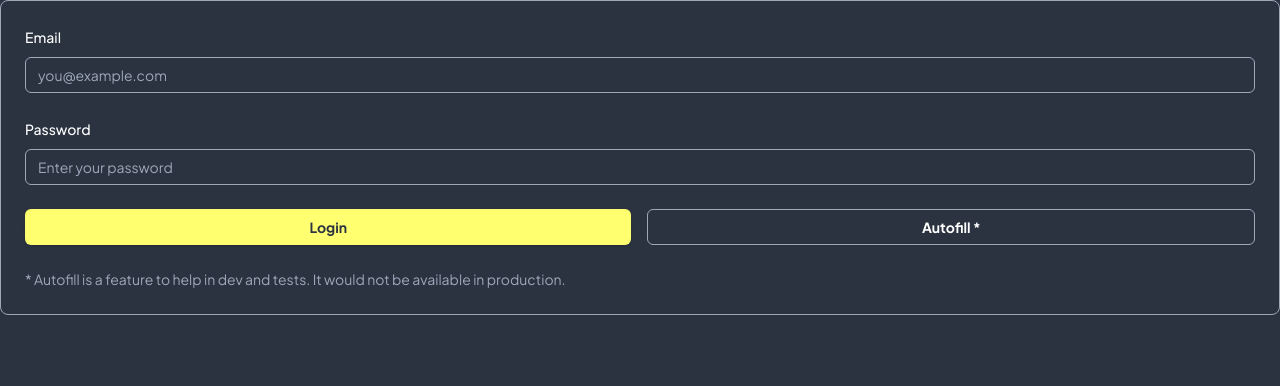
Test: LoginForm › displays validation errors for empty fields on submit
Click the button "Login" at x=328, y=227, box [25, 209, 632, 245]
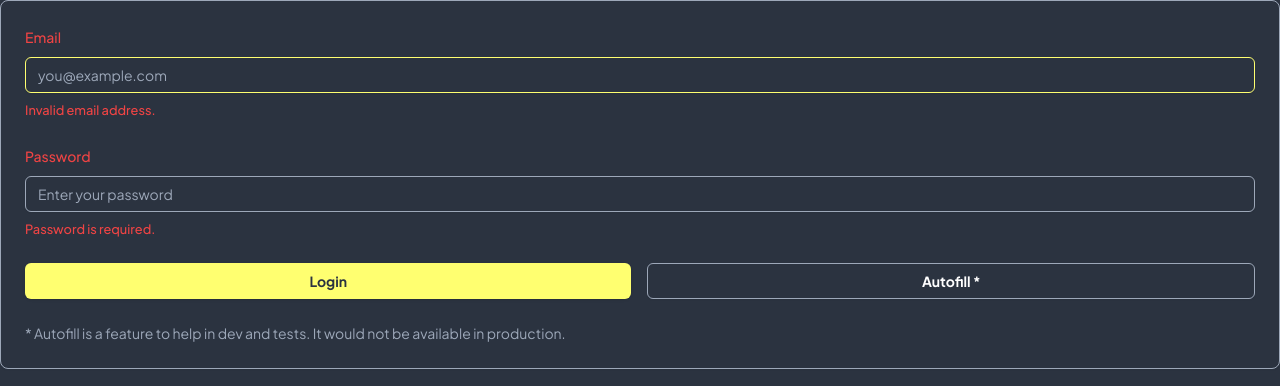
Expected: the text "Invalid email address." is shown, [25, 102, 156, 118]
Expected: the text "Password is required." is shown, [25, 221, 155, 237]
